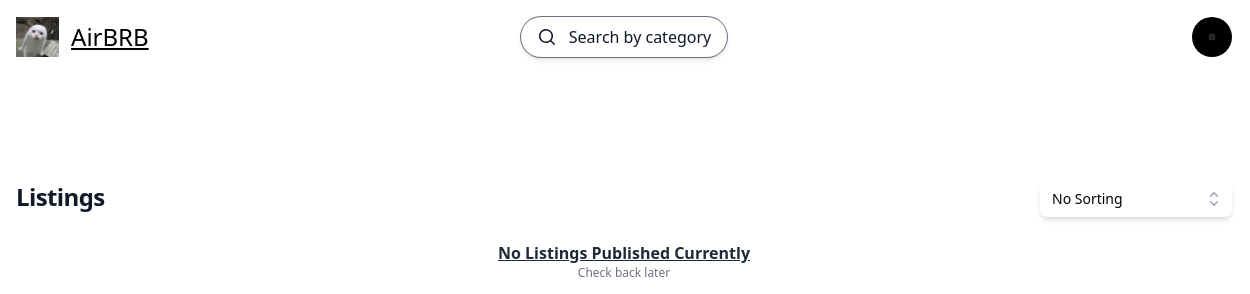
Happy Path User Testing 2 › User should open the profile modal and make sure sidebar is open
Click the 2nd button.
click(1212, 37)  # box [1192,17,1232,57]
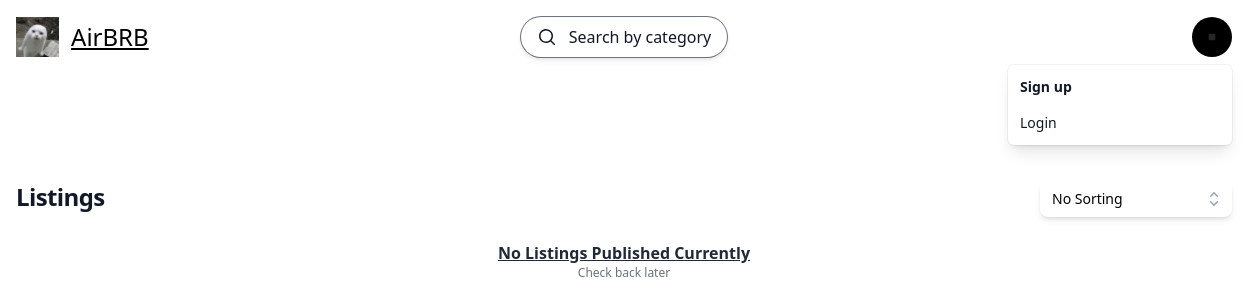
Now the menu item named "login" is shown, box [1012,105,1228,141]
Now the menu item named "register" is shown, box [1012,69,1228,105]
